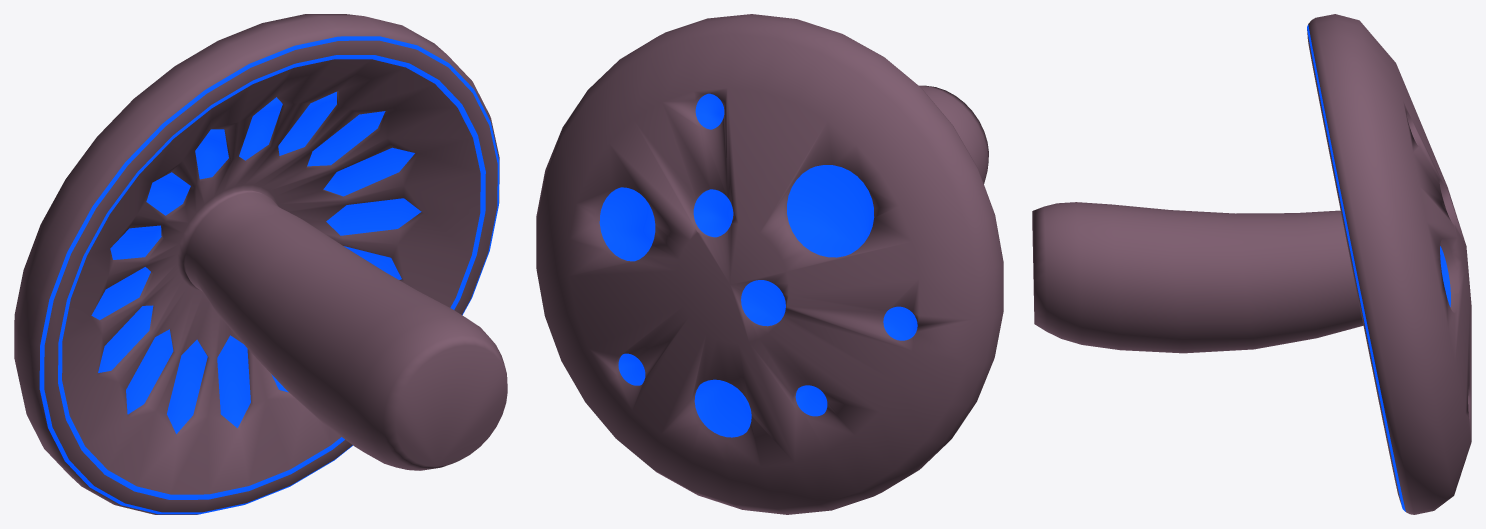
The model's file is Thick Sci Fi Shroom.fbx.
3 renders of one model, left to right at view 1: azimuth 30°, elevation 25°; view 2: azimuth 150°, elevation 25°; view 3: azimuth 270°, elevation 25°, orthographic. The views are drawn at different scales.
Parts seen in each view (by area): view 1: Cylinder; view 2: Cylinder; view 3: Cylinder.
Boxes of the visible parts, bbox=[...] form: Cylinder: bbox=[14, 14, 507, 514]; Cylinder: bbox=[536, 14, 1003, 514]; Cylinder: bbox=[1032, 14, 1471, 514].
Size of the model in its own units: 1518 by 1504 by 1316.
